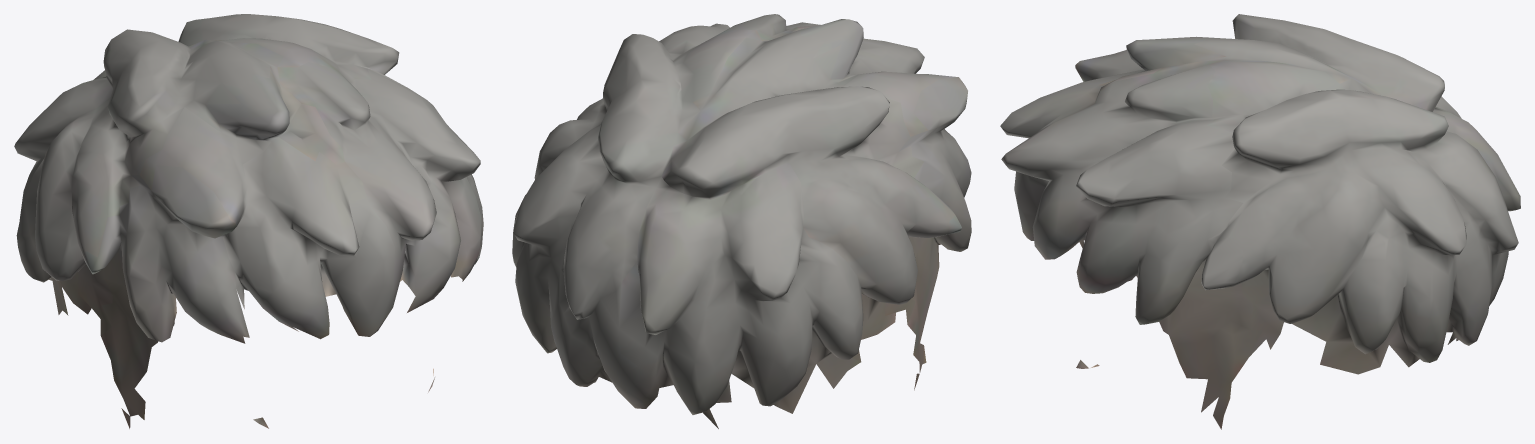
Rendered from hair-m-fringe.glb.
The picture shows the model from 3 angles, left to right: view 1: azimuth 30°, elevation 25°; view 2: azimuth 150°, elevation 25°; view 3: azimuth 270°, elevation 25°; orthographic projection. The views are drawn at different scales.
Visible parts, largest first — view 1: hair-m-fringe; view 2: hair-m-fringe; view 3: hair-m-fringe.
Boxes of the visible parts, x1,y1,x2,y2 form: hair-m-fringe: (14,14,483,428); hair-m-fringe: (512,14,971,428); hair-m-fringe: (1000,14,1520,429).
Size of the model in its own units: 0.9036 by 0.7493 by 1.12.
1 material, 1 textured.
